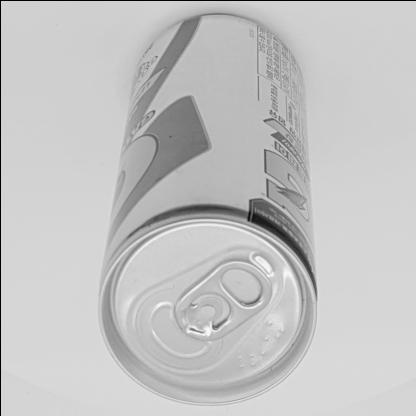alumunium_can: (97, 8, 320, 408)
